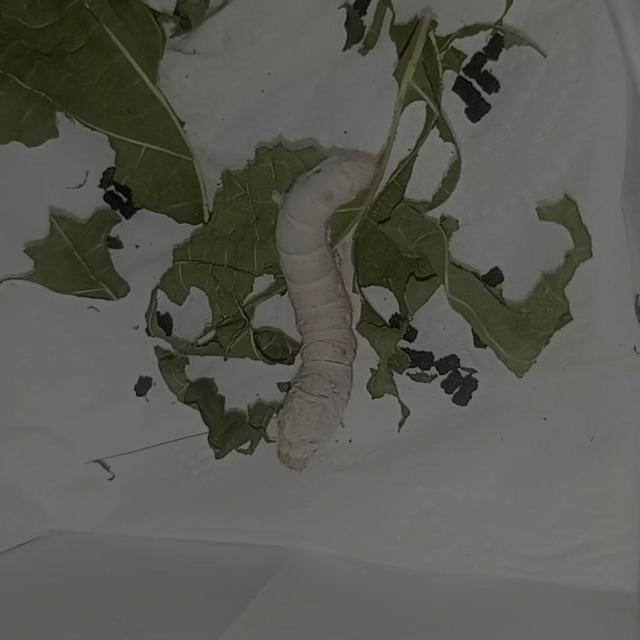Healthy: (235, 124, 408, 496)
